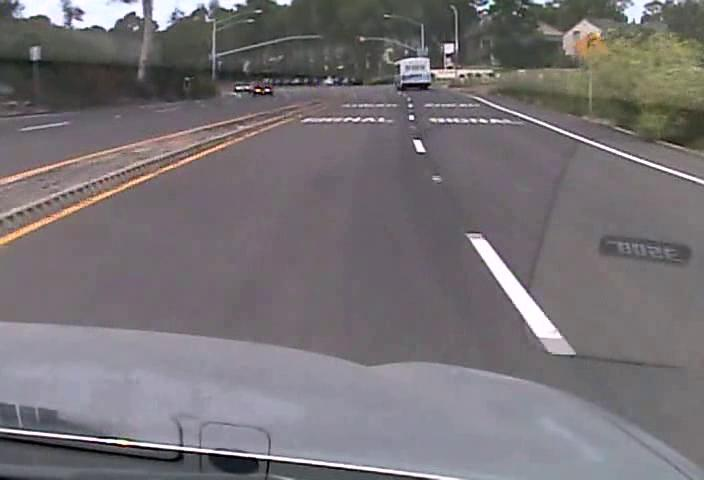signalAhead: (573, 31, 610, 66)
